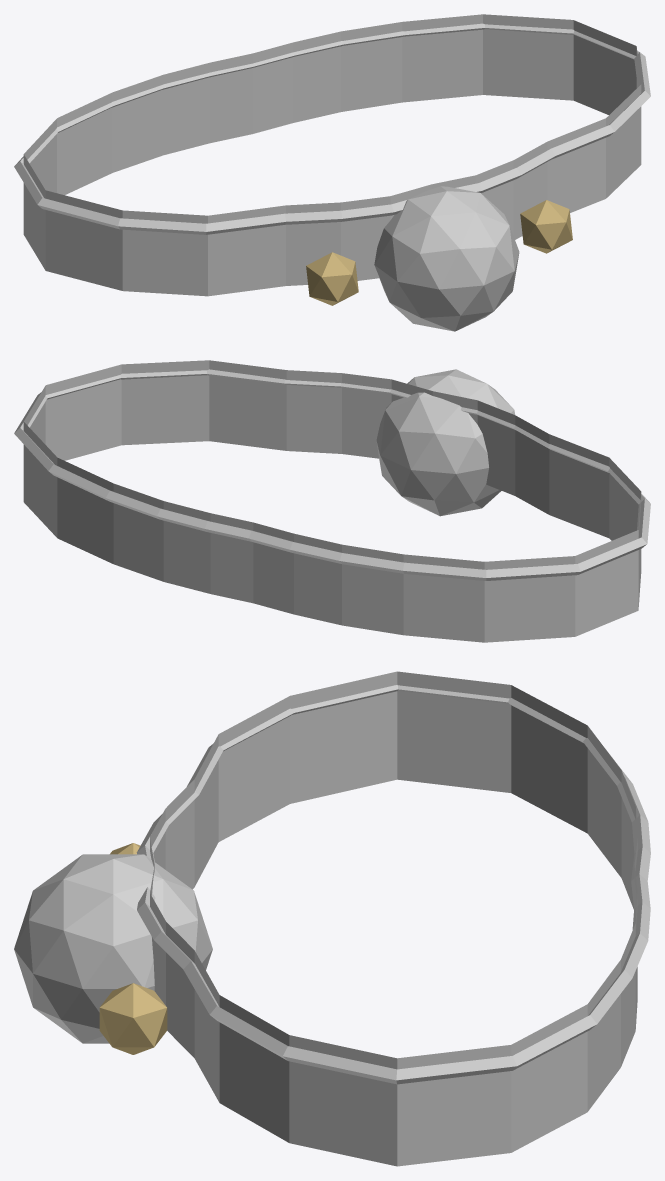
The model's file is acc_necklace_choker_v01.glb.
3 views of the same model, one above another, from view 1: azimuth 30°, elevation 25°; view 2: azimuth 150°, elevation 25°; view 3: azimuth 270°, elevation 25° (orthographic). The views are drawn at different scales.
Parts seen in each view (by area): view 1: acc_necklace_choker; view 2: acc_necklace_choker; view 3: acc_necklace_choker.
Part boxes in pixels (x1=…): acc_necklace_choker: x1=14, y1=14, x2=650, y2=331; acc_necklace_choker: x1=14, y1=360, x2=650, y2=642; acc_necklace_choker: x1=14, y1=671, x2=650, y2=1166.
Bounding box in the file's own units: 0.284 × 0.06 × 0.1921.
